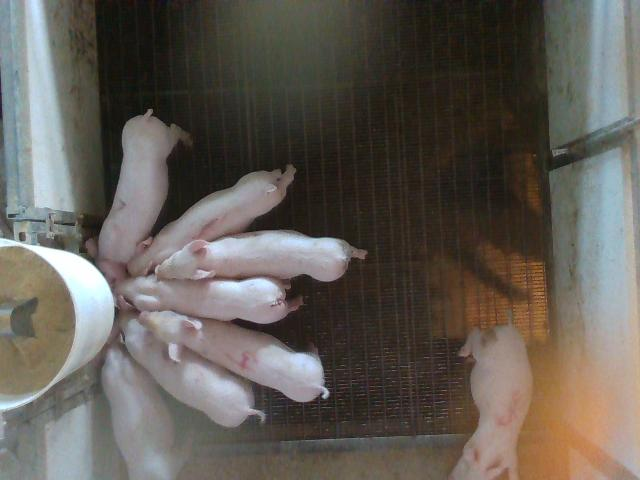pig-1: (128, 165, 296, 276)
pig-3: (450, 325, 532, 479)
pig-4: (139, 311, 329, 402)
